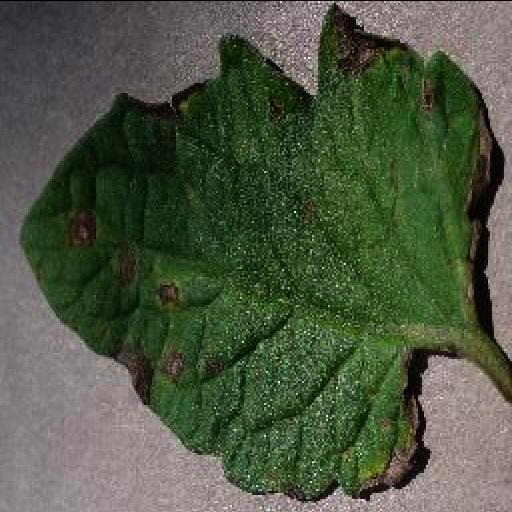disease_tomato: (14, 4, 500, 500)
